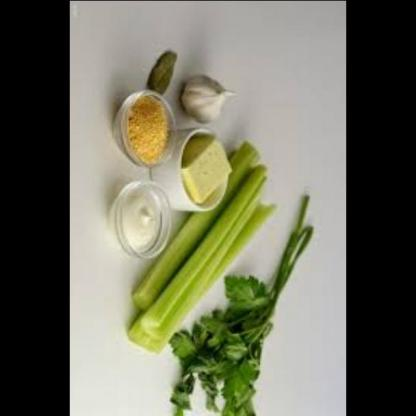celery: (119, 142, 275, 362)
garlic: (177, 68, 236, 126)
